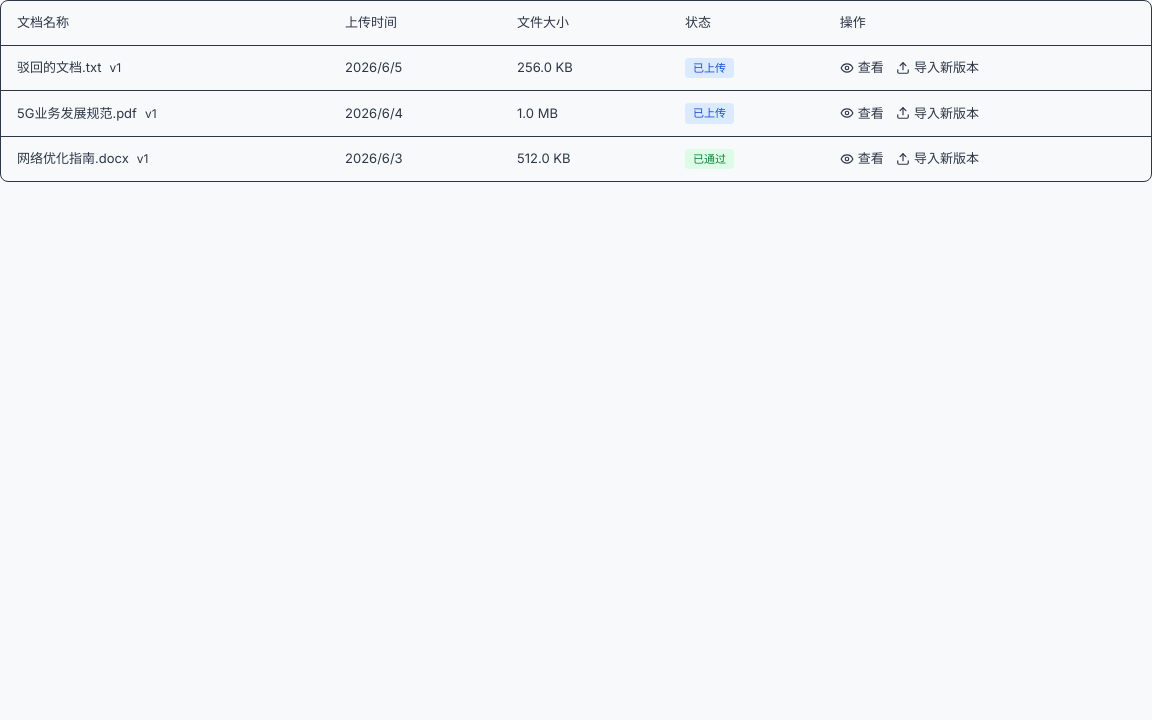
Scenario: MyDocumentsList › opens detail drawer when clicking 查看 button
Click the button "查看" in the row of "驳回的文档.txt": point(862, 68) x1=840 y1=58 x2=884 y2=78
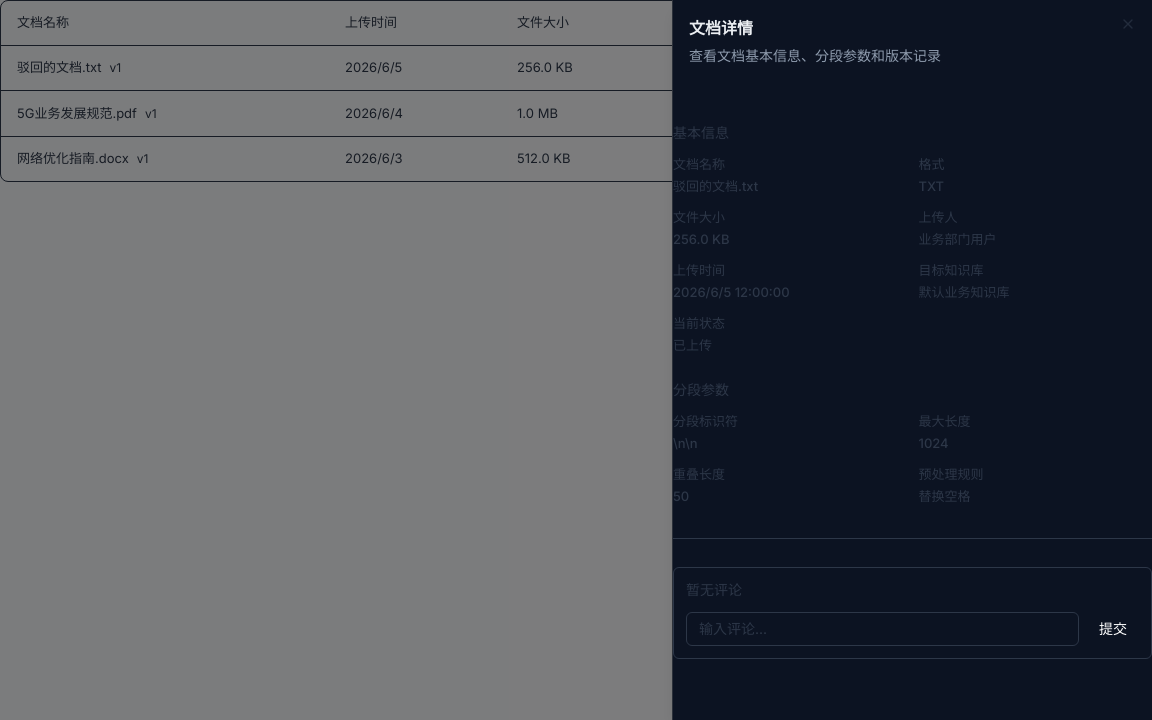
Expected: the heading "文档详情" is shown, x1=689 y1=18 x2=753 y2=38
Expected: the text "驳回的文档.txt" is shown, x1=673 y1=178 x2=758 y2=194
